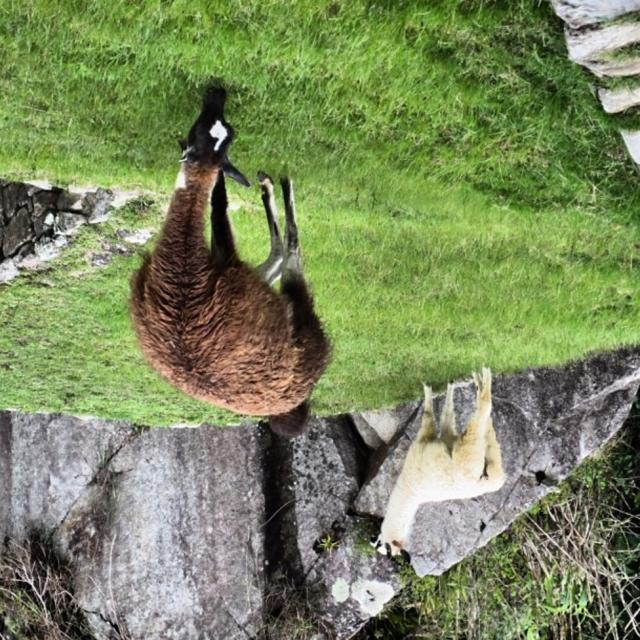alpaca: (131, 87, 329, 419), (370, 366, 505, 562)
